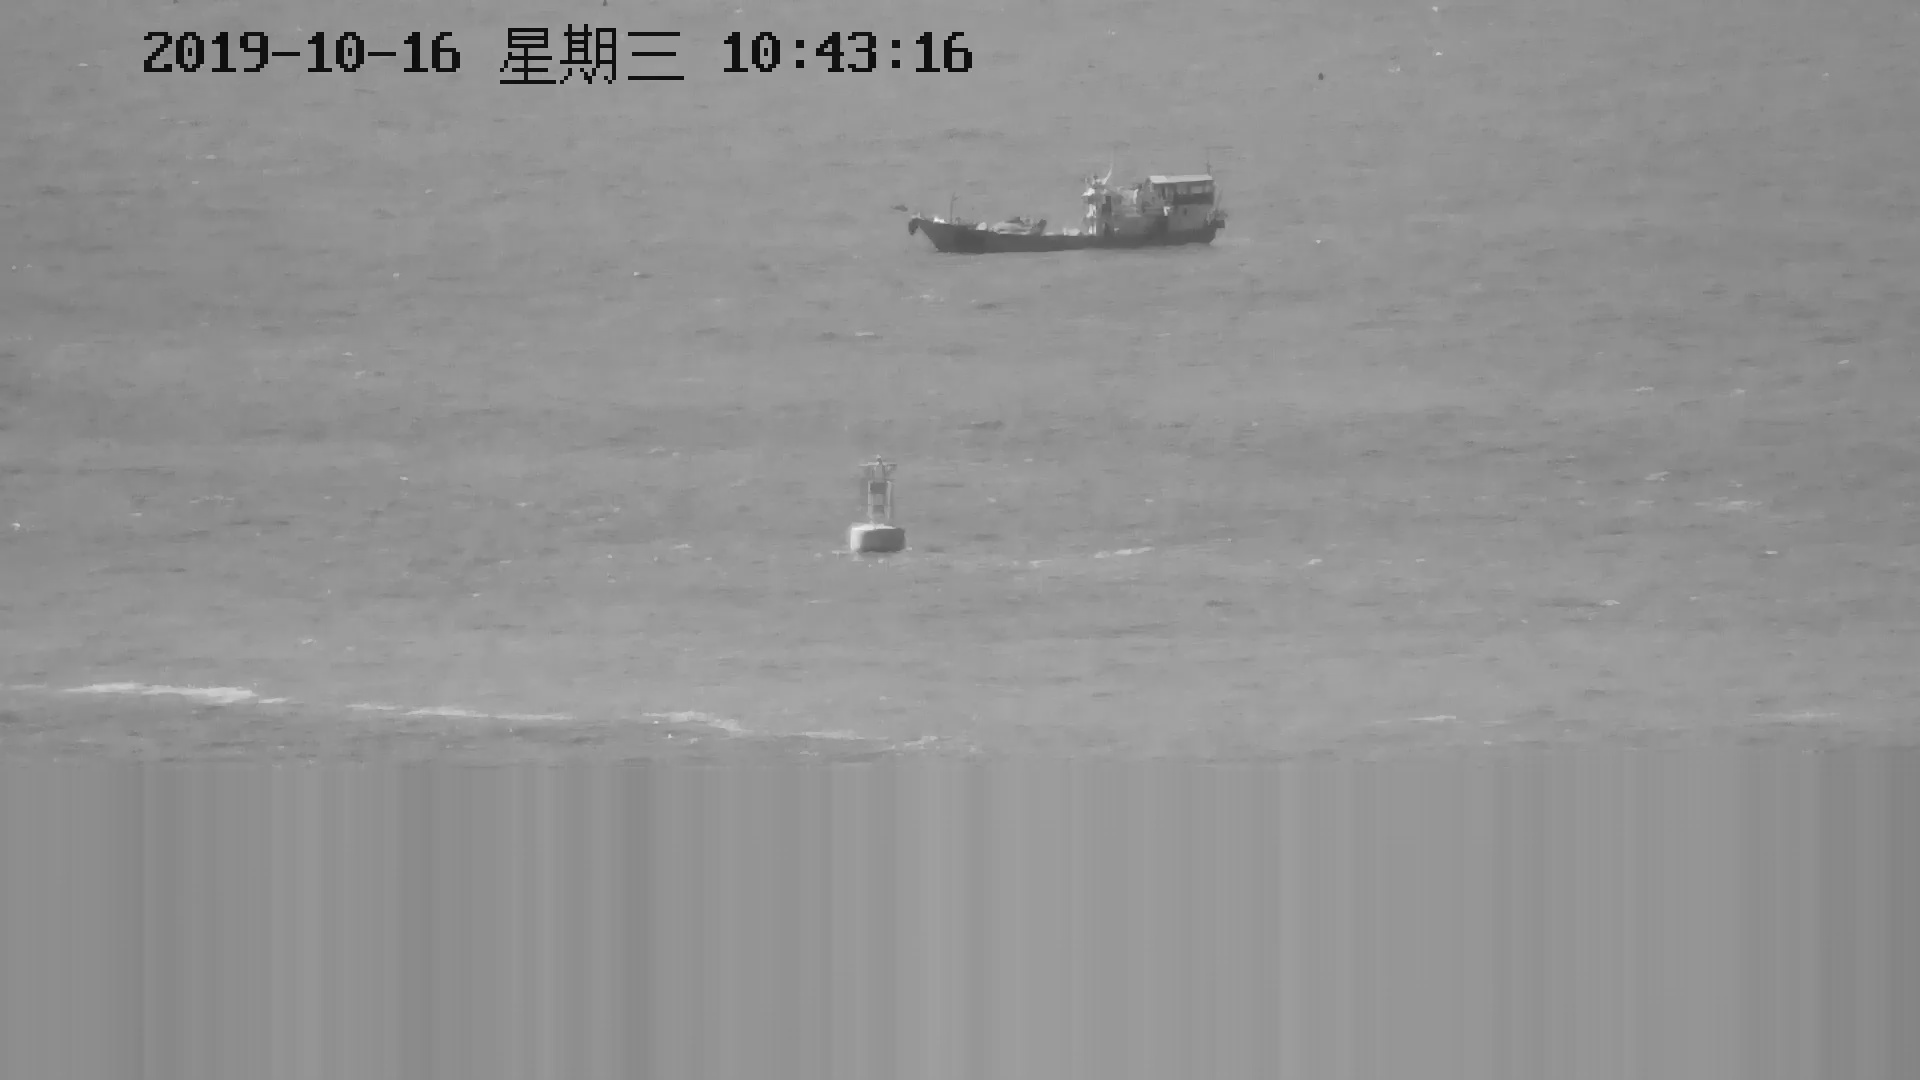ship: (902, 146, 1228, 257)
